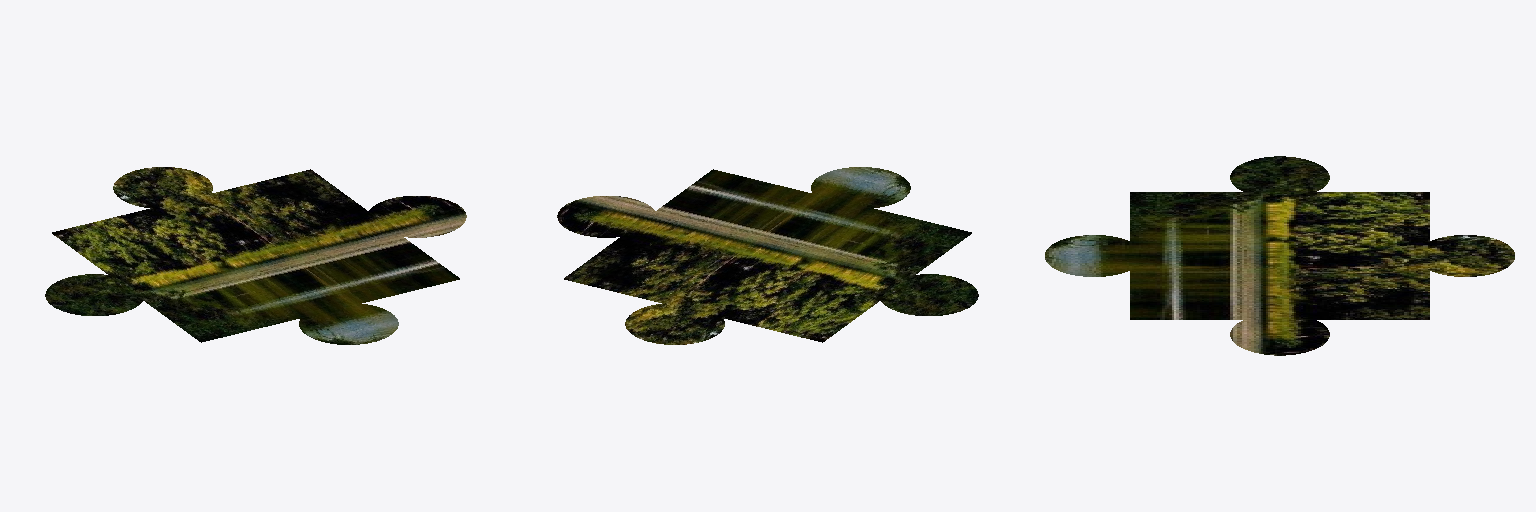
The picture shows the model from 3 angles: view 1: azimuth 30°, elevation 25°; view 2: azimuth 150°, elevation 25°; view 3: azimuth 270°, elevation 25°; orthographic projection.
Visible parts, largest first — view 1: ͼ��009; view 2: ͼ��009; view 3: ͼ��009.
Part boxes in pixels (x1,y1,x2,y2): ͼ��009: (45, 167, 466, 344); ͼ��009: (557, 167, 978, 344); ͼ��009: (1045, 156, 1514, 355).
Size of the model in its own units: 47.01 by 0 by 47.01.
Materials: 1 (1 with a texture image).